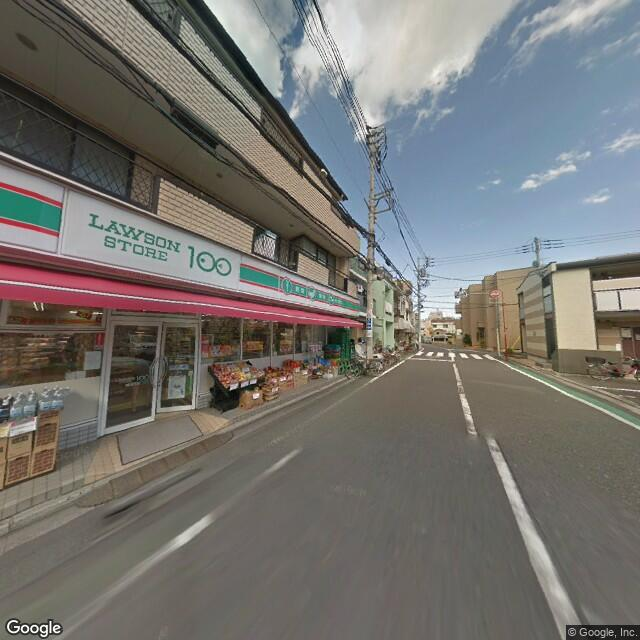lawson: (1, 153, 362, 321)
